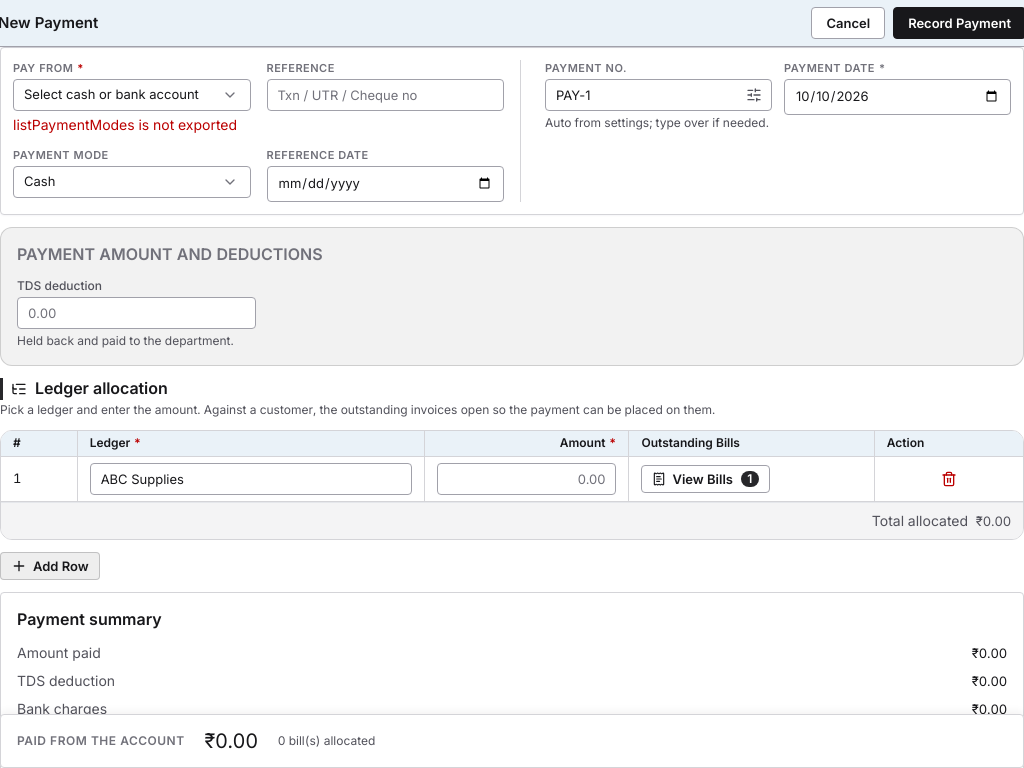
Scenario: the bills a payment can settle › shows the bill, what is left of it, and when it fell due
This screenshot has width=1024, height=768.
Step 1. Click the button "View Bills 1" → (706, 479), box [642, 465, 770, 493]
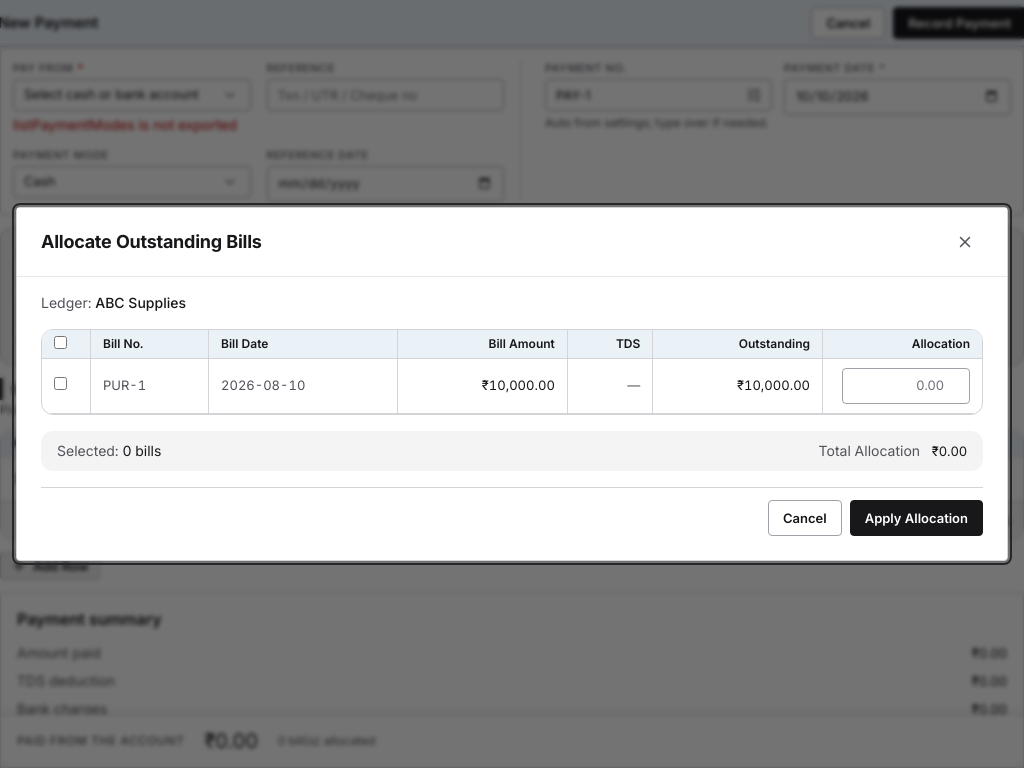
Now the text "PUR-1" shows "Bill Amount", box [488, 336, 555, 351]
Now the text "PUR-1" shows "Outstanding", box [739, 336, 810, 351]
Now the text "PUR-1" shows "2026-08-10", box [221, 377, 305, 393]
